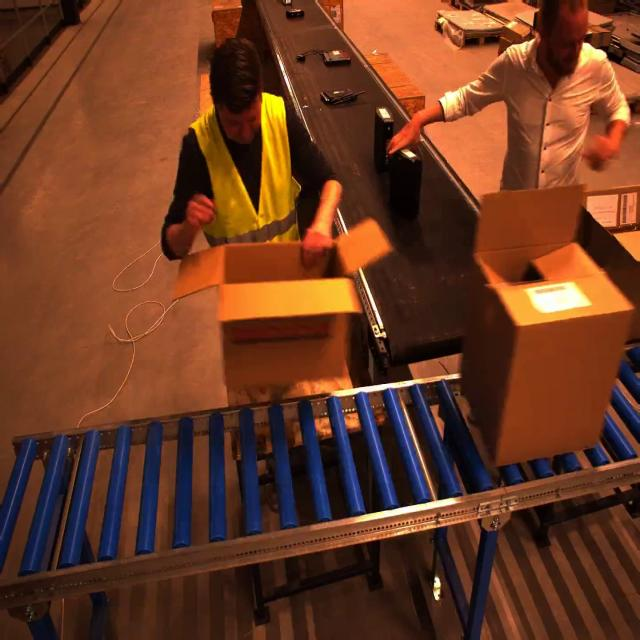box: (465, 185, 634, 455), (174, 218, 392, 393)
product: (389, 147, 423, 217), (373, 106, 393, 174), (320, 87, 360, 105), (321, 49, 351, 66), (285, 8, 304, 18), (282, 1, 292, 7)
